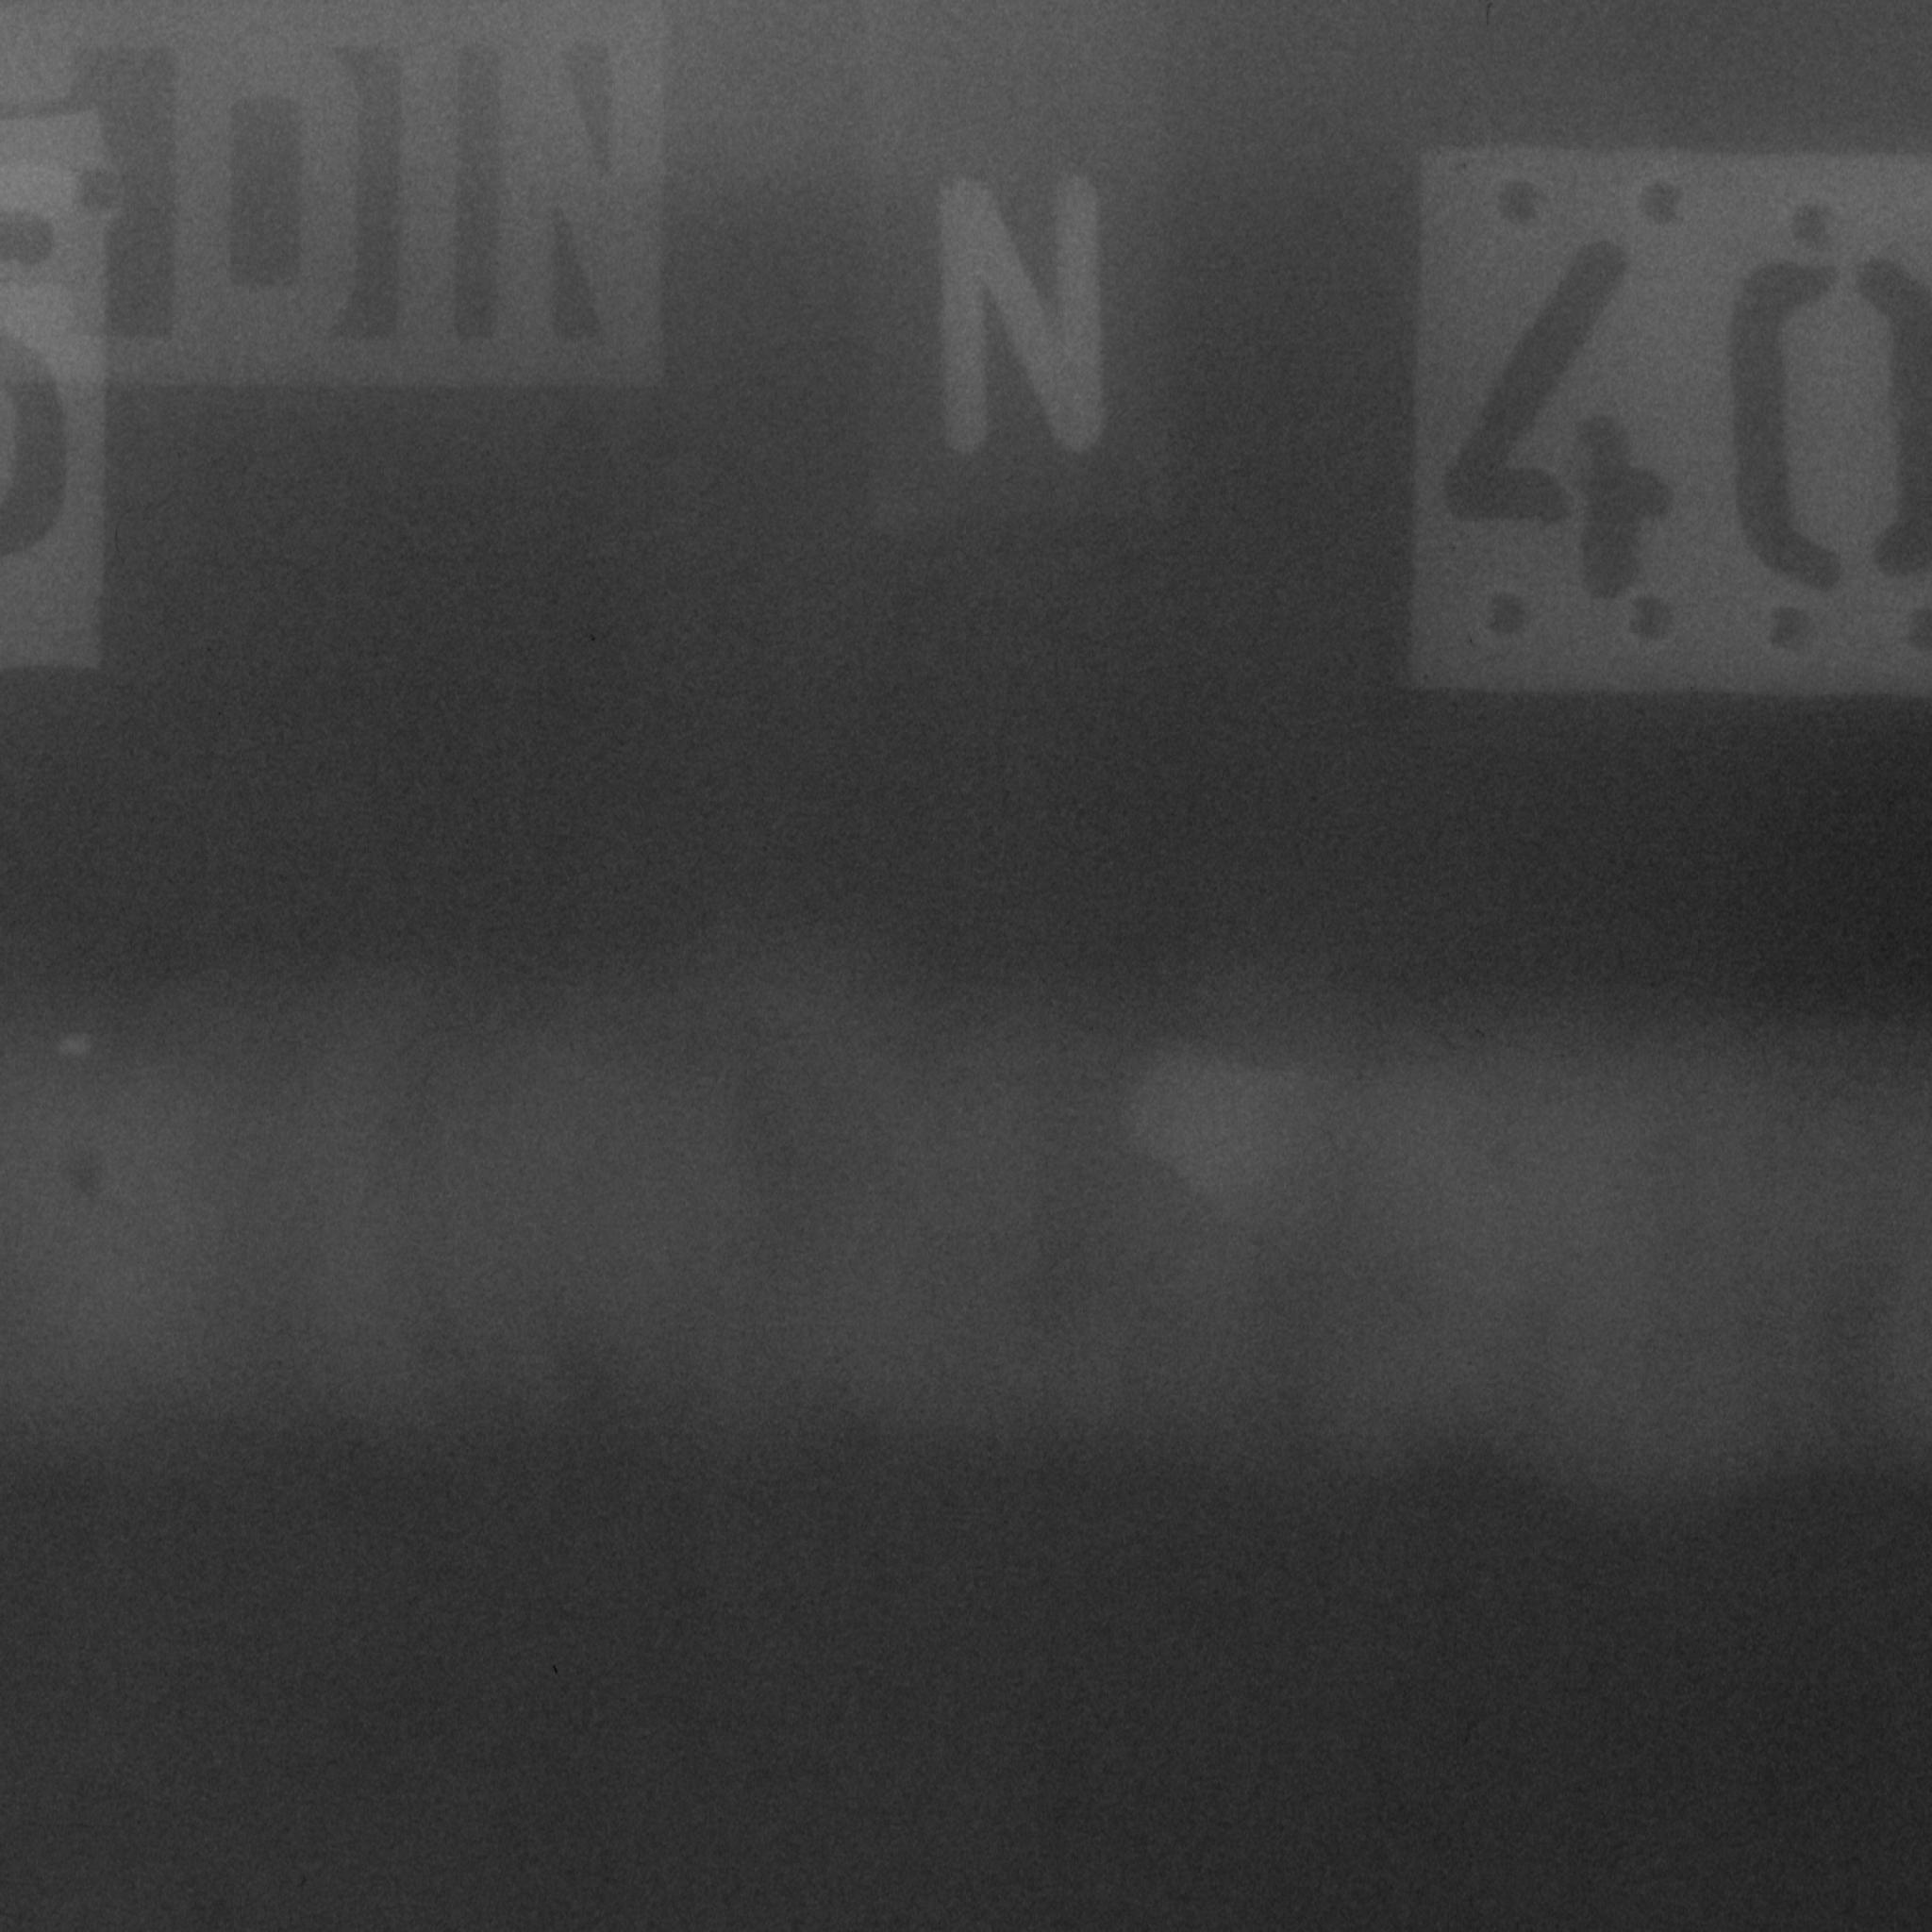FF: (547, 926, 1898, 1593)
PO: (38, 1109, 150, 1234)
